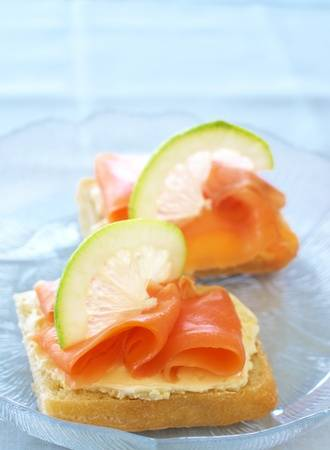slice of bread: (17, 285, 295, 431)
